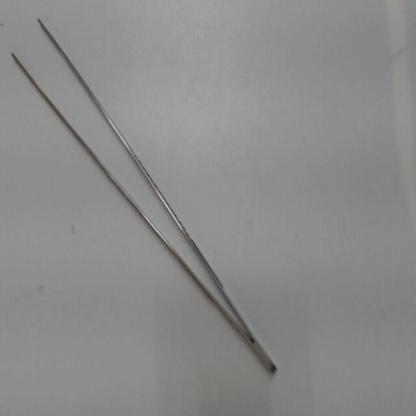DeBakey Dissector: (8, 5, 286, 383)
